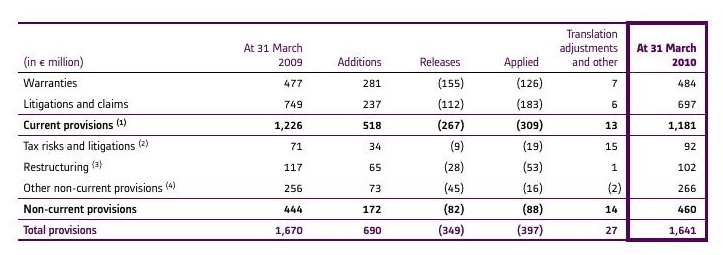table: (0, 0, 723, 255)
